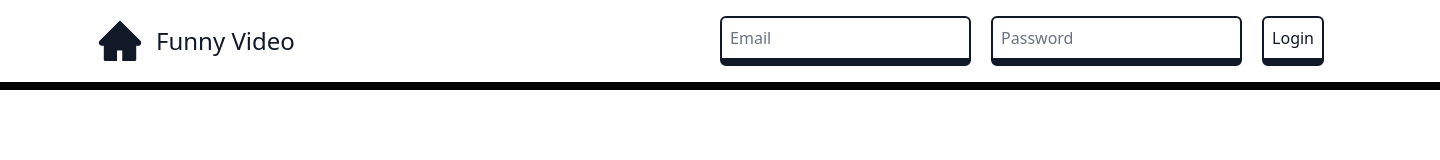
App › login success & log out
Expected: the password field with test id "password-input" is shown, [991, 16, 1242, 66]
Expected: the button with test id "login-button" is shown, [1262, 16, 1324, 66]
Type "doquang0310@gmail.com" into the field with test id "email-input". click: coordinates (846, 41)
box: [720, 16, 971, 66]
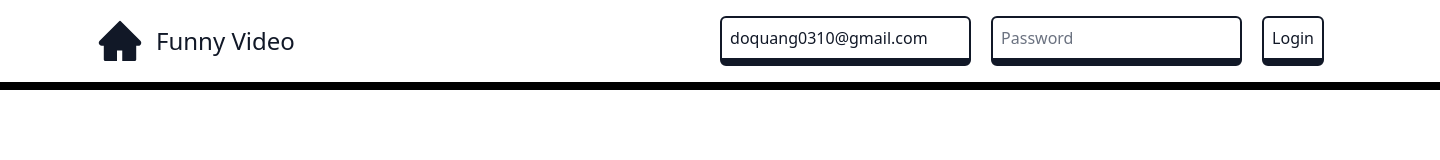
Type "1234567" into the password field with test id "password-input". click: coordinates (1117, 41)
box: [991, 16, 1242, 66]
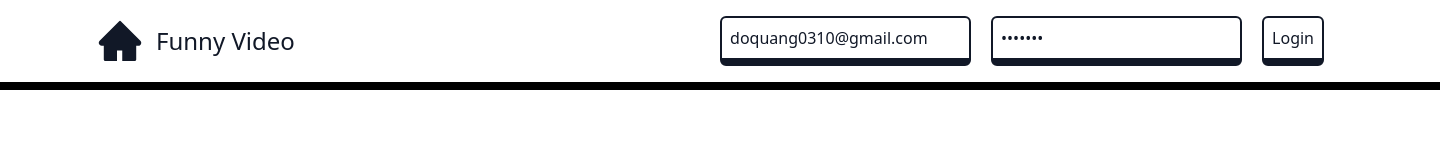
Click the button with test id "login-button". click: coordinates (1293, 41)
box: [1262, 16, 1324, 66]
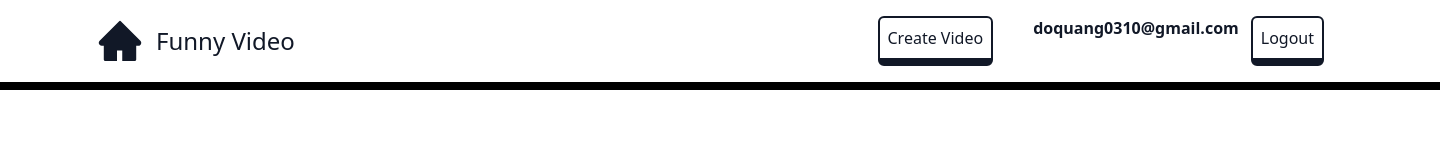
Now the text with test id "email-header" reads "doquang0310@gmail.com", box [1033, 17, 1239, 39]
Now the field with test id "email-input" is gone
